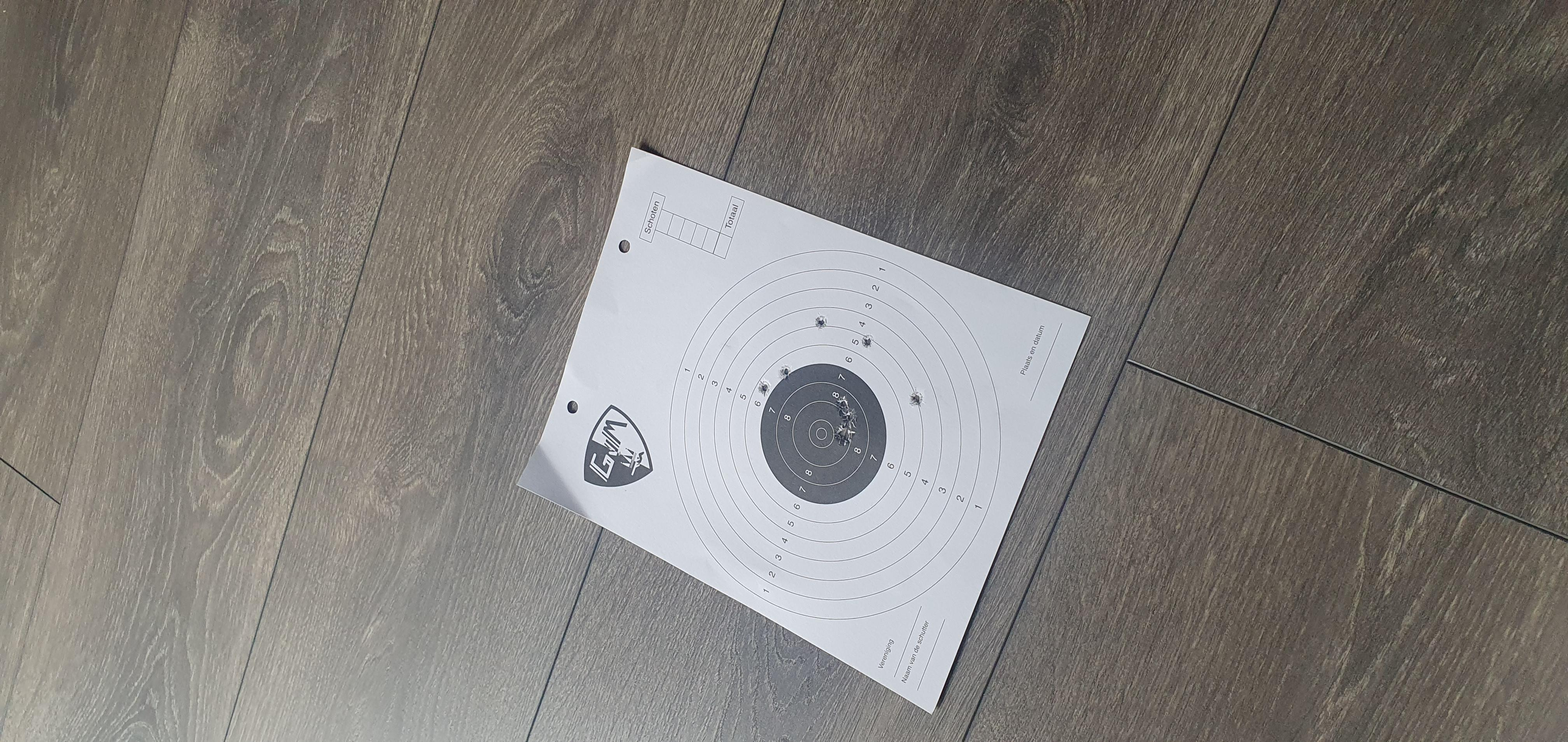hole: (627, 394, 674, 404), (758, 368, 803, 375), (705, 430, 744, 438), (872, 384, 905, 392), (731, 358, 766, 365), (698, 395, 732, 402), (671, 398, 704, 405), (831, 407, 862, 414)
